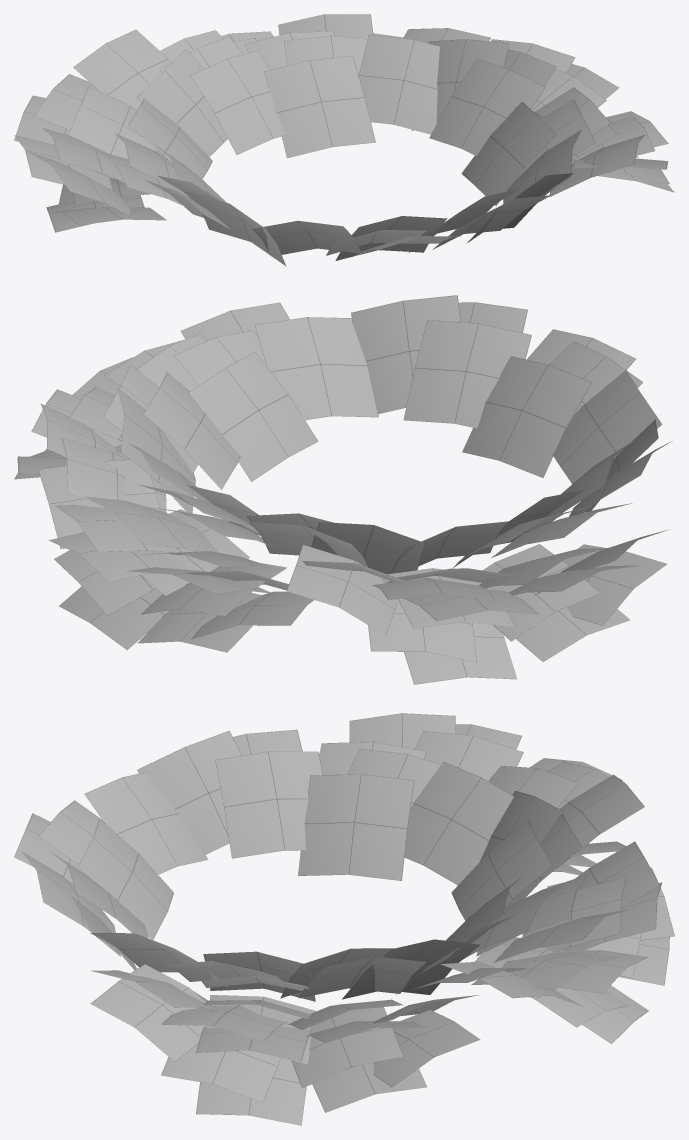
Rendered from Arena_Malphas_nid.fbx.
3 views of the same model, one above another, from view 1: azimuth 30°, elevation 25°; view 2: azimuth 150°, elevation 25°; view 3: azimuth 270°, elevation 25° (orthographic). The views are drawn at different scales.
Visible parts, largest first — view 1: polySurface_branch; view 2: polySurface_branch; view 3: polySurface_branch.
Part boxes in pixels (left/top/right/bottom): polySurface_branch: left=14, top=14, right=674, bottom=265; polySurface_branch: left=14, top=295, right=671, bottom=684; polySurface_branch: left=14, top=713, right=674, bottom=1125.
Size of the model in its own units: 57.32 by 11.15 by 51.74.
1 material, 1 textured.
